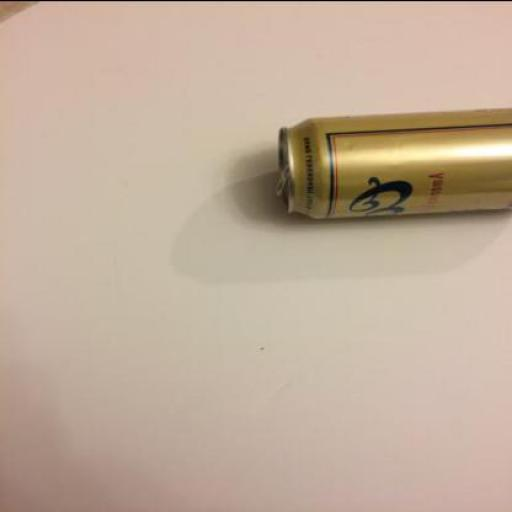metal: (274, 106, 511, 219)
